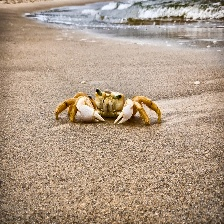crab: (54, 92, 106, 123)
